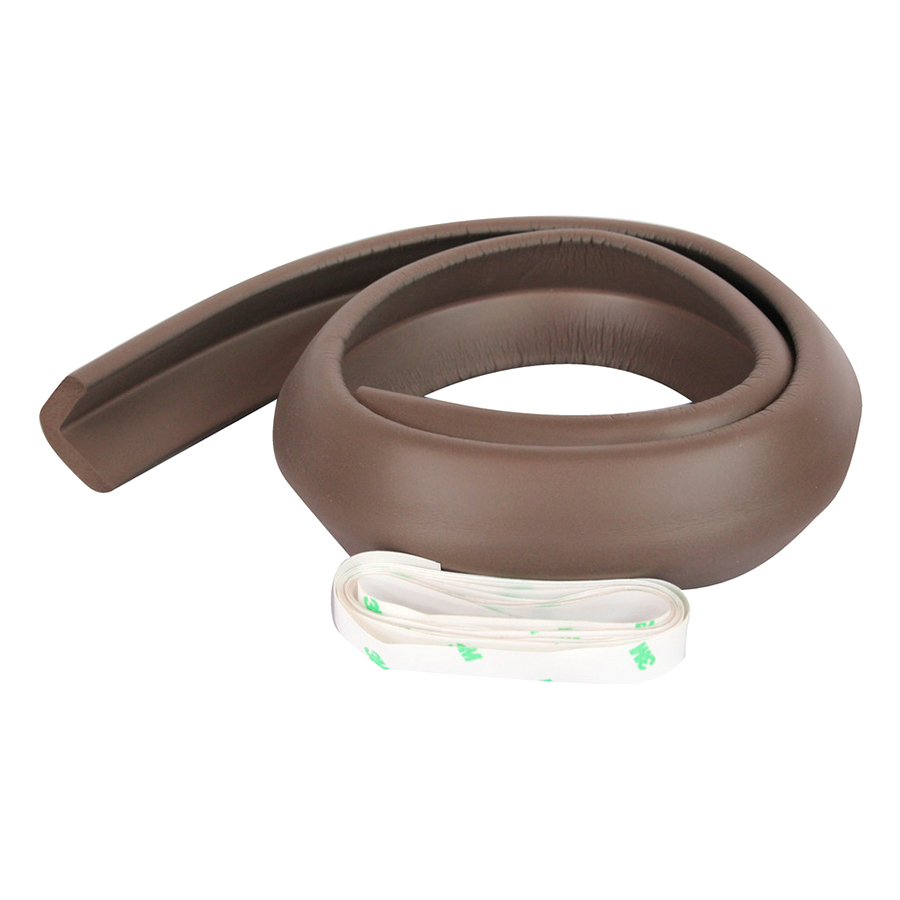3M: (629, 638, 662, 675)
